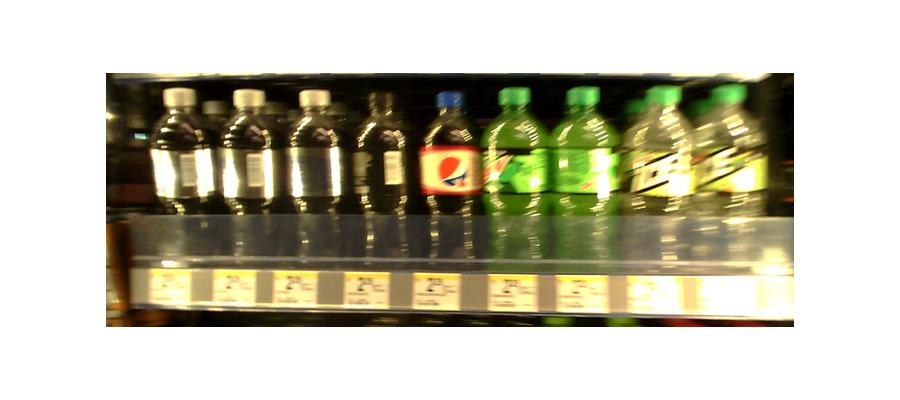bottle: (689, 87, 769, 268), (550, 80, 617, 273), (483, 83, 549, 270), (623, 82, 691, 263), (216, 86, 282, 265), (283, 88, 348, 267), (148, 86, 216, 252), (419, 85, 480, 263), (353, 83, 412, 264)
